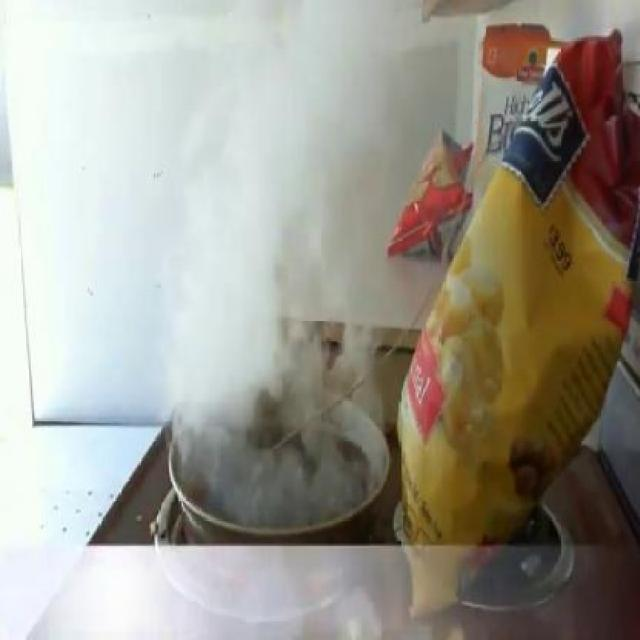smoke: (170, 84, 352, 503)
